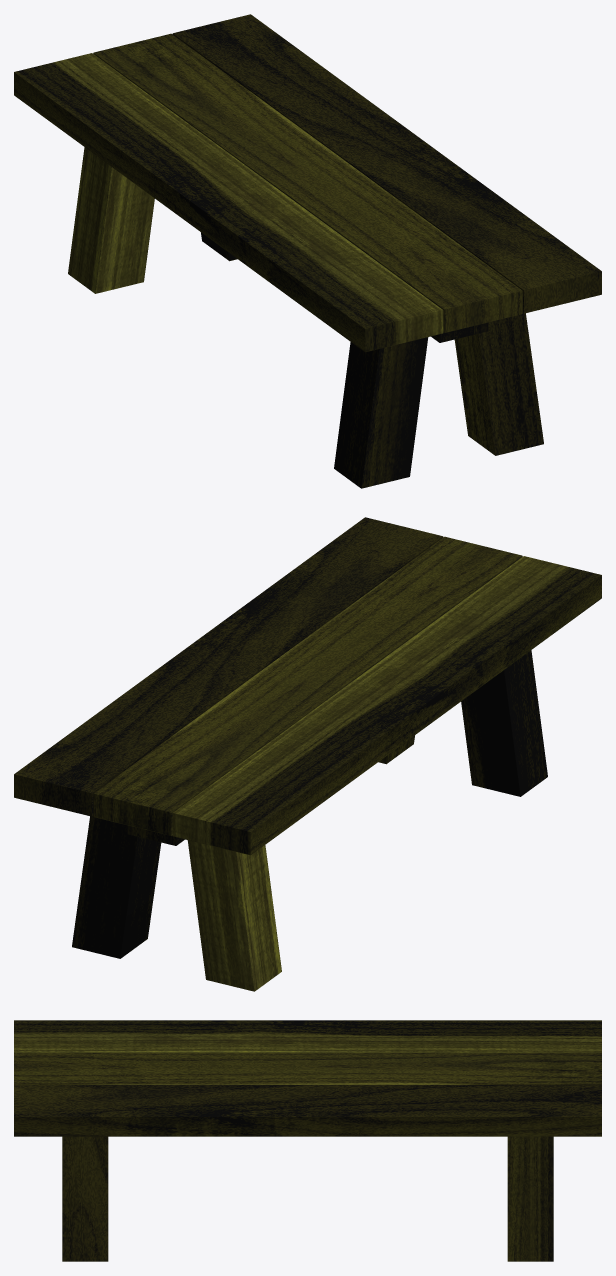
Rendered from tablevirginia.fbx.
The picture shows the model from 3 angles, top to bottom: view 1: azimuth 30°, elevation 25°; view 2: azimuth 150°, elevation 25°; view 3: azimuth 270°, elevation 25°; orthographic projection. The views are drawn at different scales.
Visible parts, largest first — view 1: table; view 2: table; view 3: table.
Part boxes in pixels (<box>): table: <box>14,14,601,488</box>; table: <box>14,517,601,991</box>; table: <box>14,1020,601,1261</box>.
Size of the model in its own units: 10.61 by 8 by 27.25.
1 material, 1 textured.
